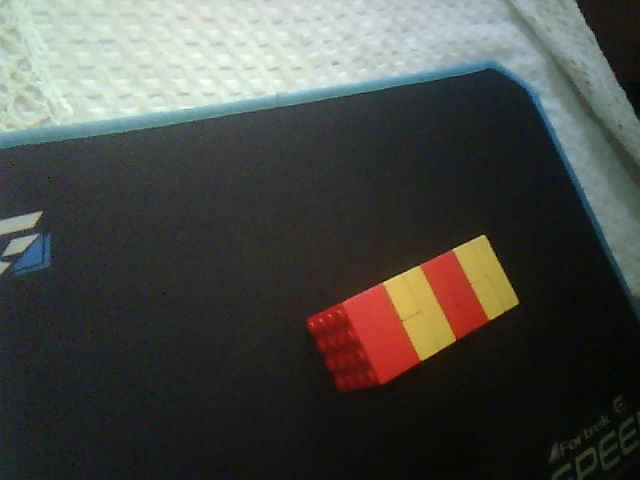lego: (304, 233, 521, 394)
